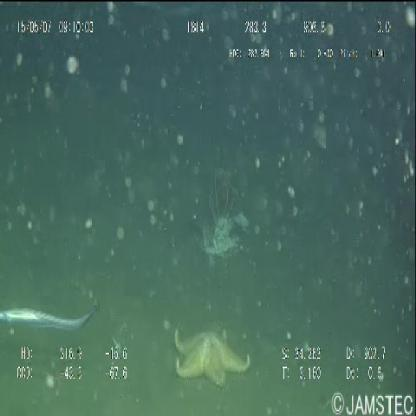Rác: (199, 214, 252, 264)
